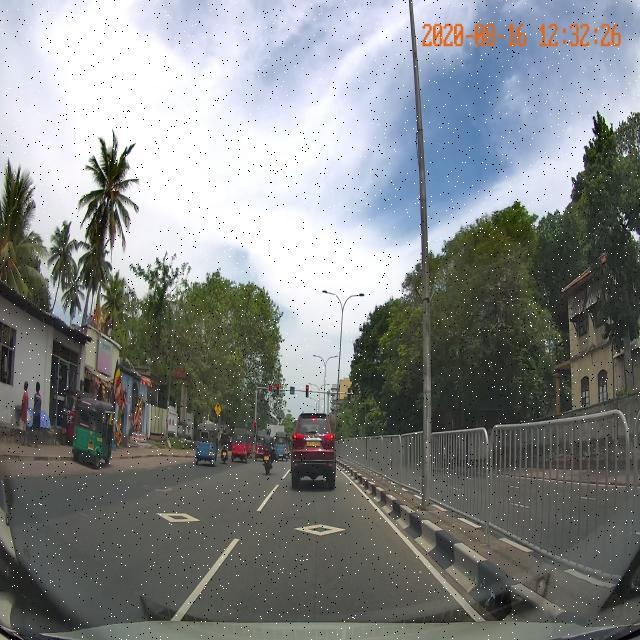diamond: (211, 499, 430, 560)
